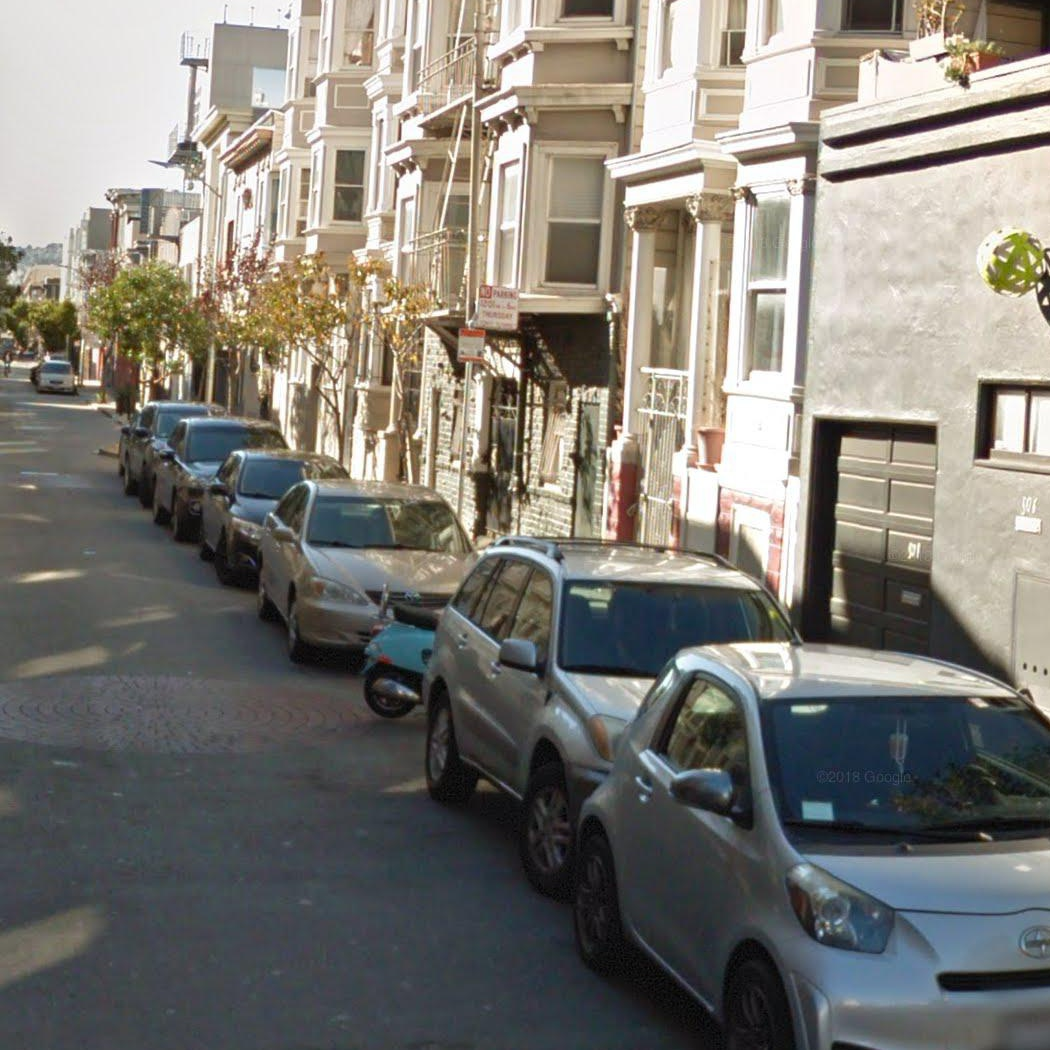No Parking: (475, 283, 520, 332)
